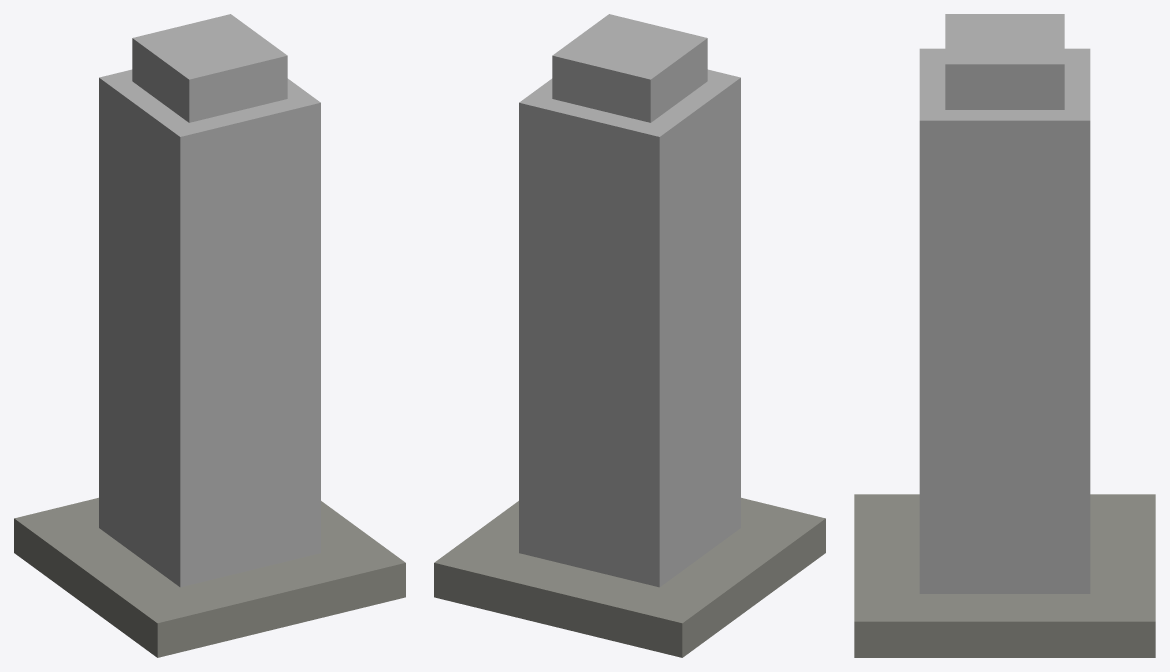
Rendered from SM_poste_km_v0_LOD1.fbx.
The picture shows the model from 3 angles, left to right: view 1: azimuth 30°, elevation 25°; view 2: azimuth 150°, elevation 25°; view 3: azimuth 270°, elevation 25°; orthographic projection. The views are drawn at different scales.
Visible parts, largest first — view 1: SM_bloques.poste_km_v0_LOD1; view 2: SM_bloques.poste_km_v0_LOD1; view 3: SM_bloques.poste_km_v0_LOD1.
Part boxes in pixels (x1,y1,x2,y2): SM_bloques.poste_km_v0_LOD1: (14, 14, 405, 657); SM_bloques.poste_km_v0_LOD1: (434, 14, 825, 657); SM_bloques.poste_km_v0_LOD1: (854, 14, 1155, 657).
Size of the model in its own units: 0.6 by 1.22 by 0.6.
